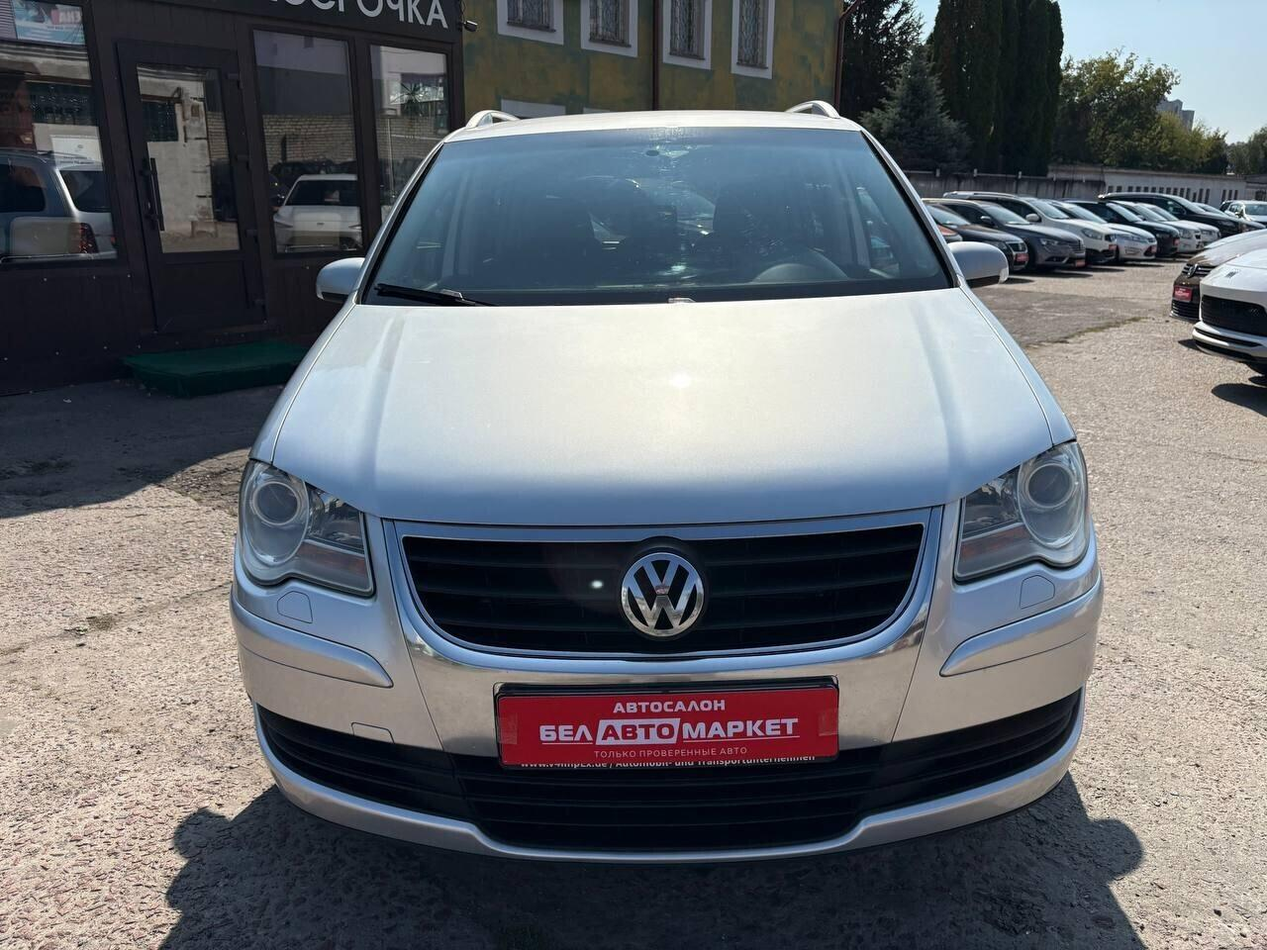Touran_2006-2010: (218, 104, 1109, 888)
